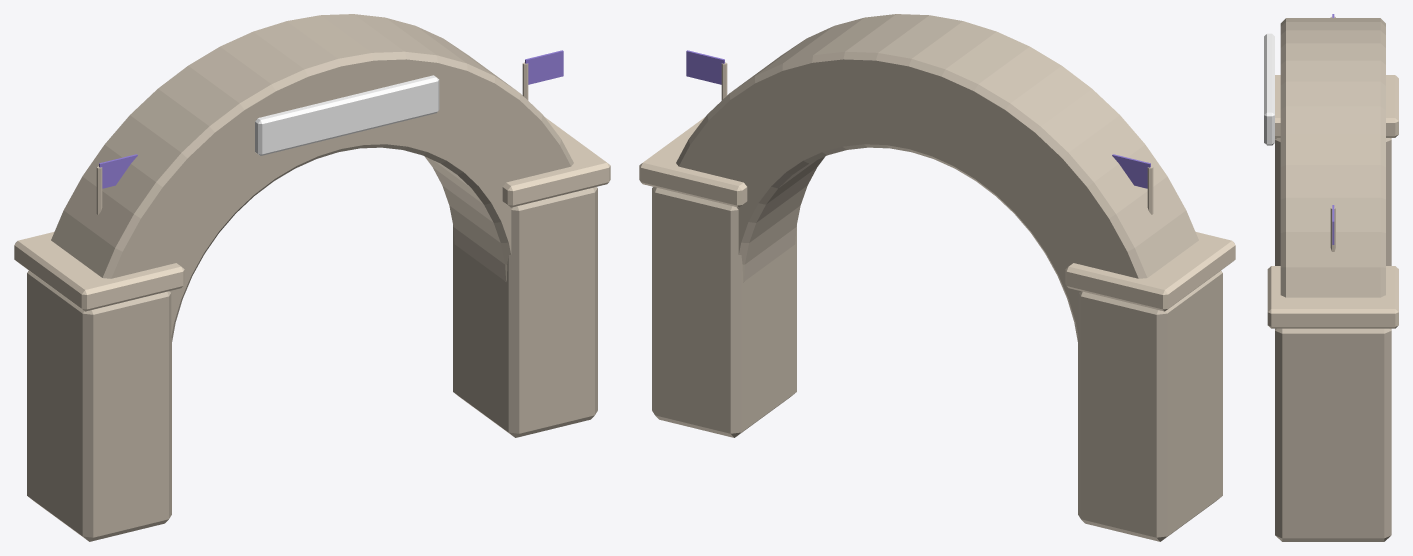
The model's file is town-citygate.glb.
3 views of the same model, side by side, from view 1: azimuth 30°, elevation 25°; view 2: azimuth 150°, elevation 25°; view 3: azimuth 270°, elevation 25° (orthographic). The views are drawn at different scales.
Visible parts, largest first — view 1: BODY_CityGate; view 2: BODY_CityGate; view 3: BODY_CityGate.
Boxes of the visible parts, x1,y1,x2,y2 form: BODY_CityGate: (14, 14, 610, 541); BODY_CityGate: (639, 14, 1235, 541); BODY_CityGate: (1264, 14, 1398, 541).
Size of the model in its own units: 15.4 by 11.7 by 3.7.
